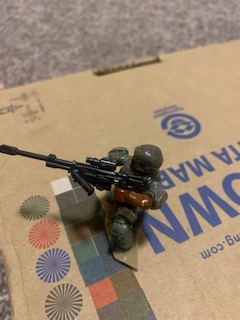soldier: (1, 138, 171, 254)
